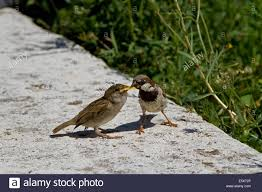hsparrow: (37, 83, 136, 145), (128, 73, 183, 139)
